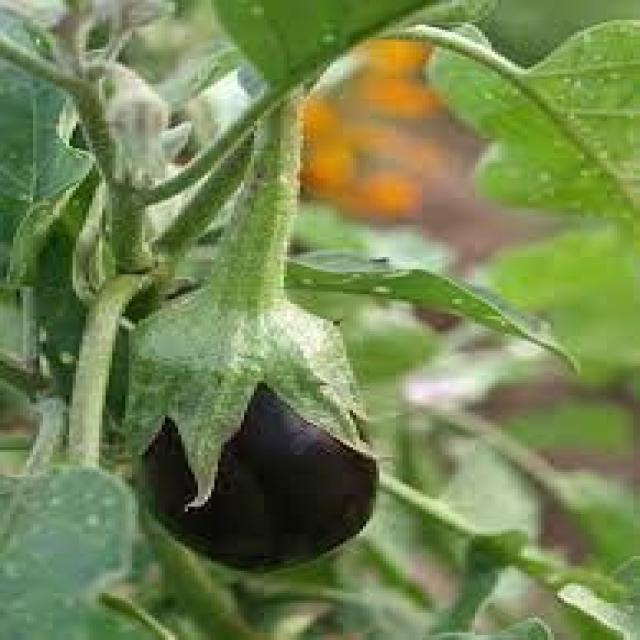eggplant: (126, 87, 381, 574)
